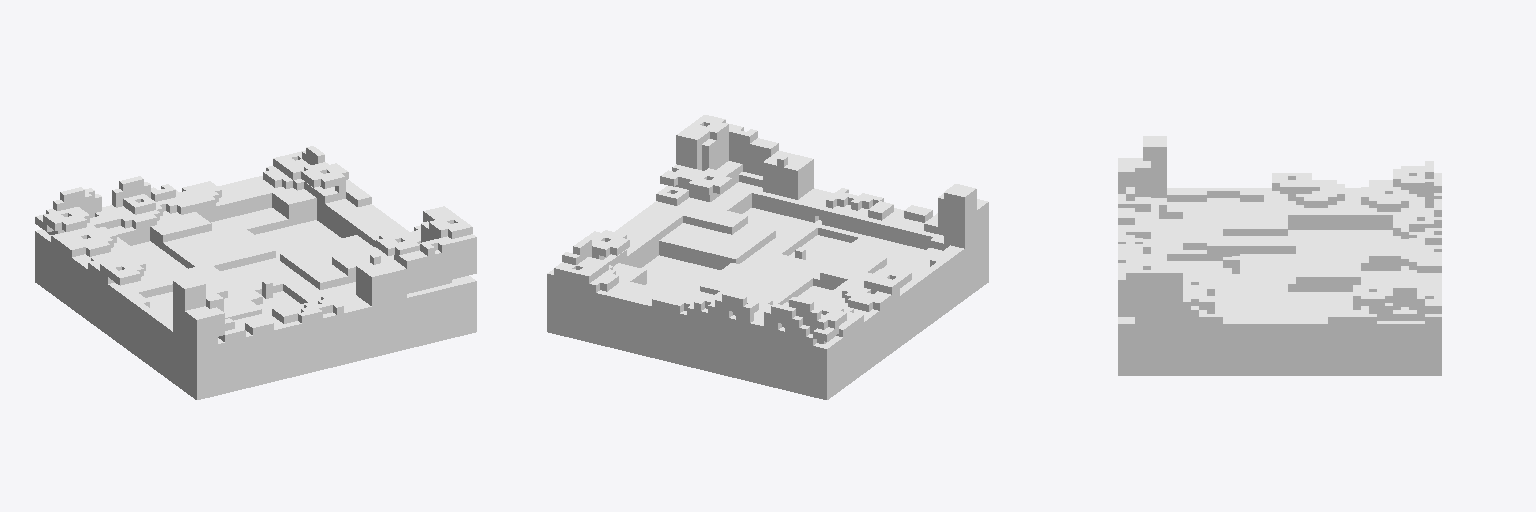
The model's file is tile-8.obj.
3 views of the same model, side by side, from view 1: azimuth 30°, elevation 25°; view 2: azimuth 150°, elevation 25°; view 3: azimuth 270°, elevation 25° (orthographic).
Visible parts, largest first — view 1: tile-8; view 2: tile-8; view 3: tile-8.
Boxes of the visible parts, x1=… form: tile-8: x1=35, y1=146, x2=476, y2=399; tile-8: x1=547, y1=115, x2=988, y2=399; tile-8: x1=1118, y1=136, x2=1441, y2=375.
Size of the model in its own units: 40 by 14 by 40.